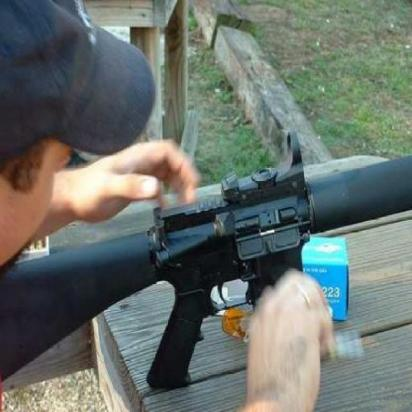Gun: (8, 124, 411, 396)
